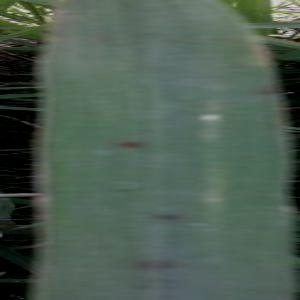0 BrownSpot: (129, 252, 185, 276), (108, 129, 152, 157), (191, 104, 228, 129), (150, 204, 187, 228), (252, 79, 280, 104)
